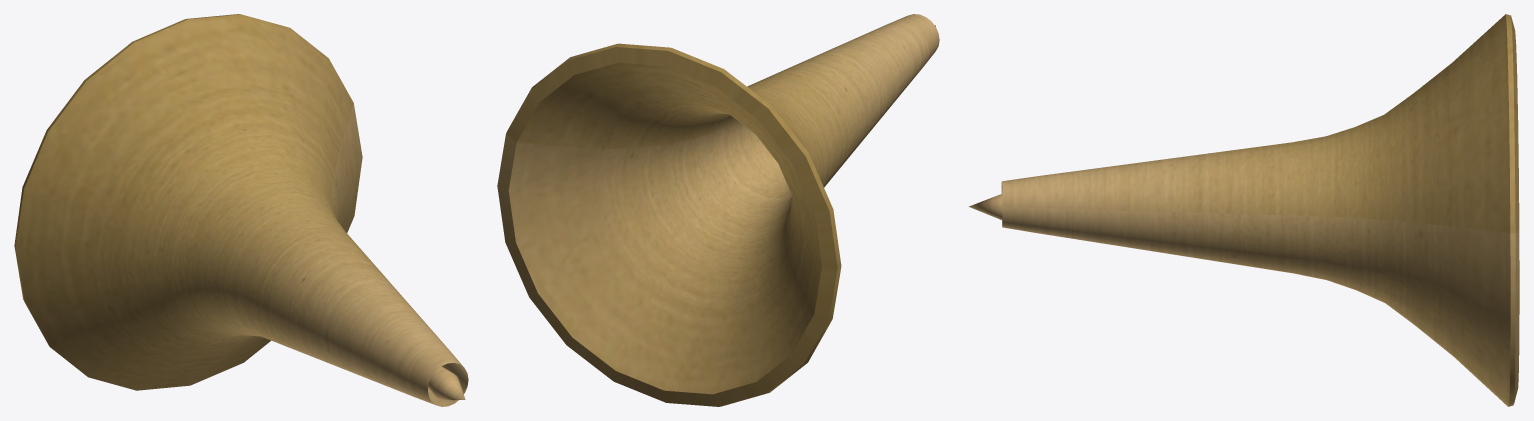
Rendered from Horn.FBX.
3 renders of one model, left to right at view 1: azimuth 30°, elevation 25°; view 2: azimuth 150°, elevation 25°; view 3: azimuth 270°, elevation 25°, orthographic. The views are drawn at different scales.
Visible parts, largest first — view 1: Horn; view 2: Horn; view 3: Horn.
Part boxes in pixels (x1,y1,x2,y2): Horn: (14, 14, 468, 406); Horn: (497, 14, 939, 406); Horn: (969, 14, 1519, 406).
Bounding box in the file's own units: 1.82 × 1.82 × 2.54.
Materials: 1 (1 with a texture image).
